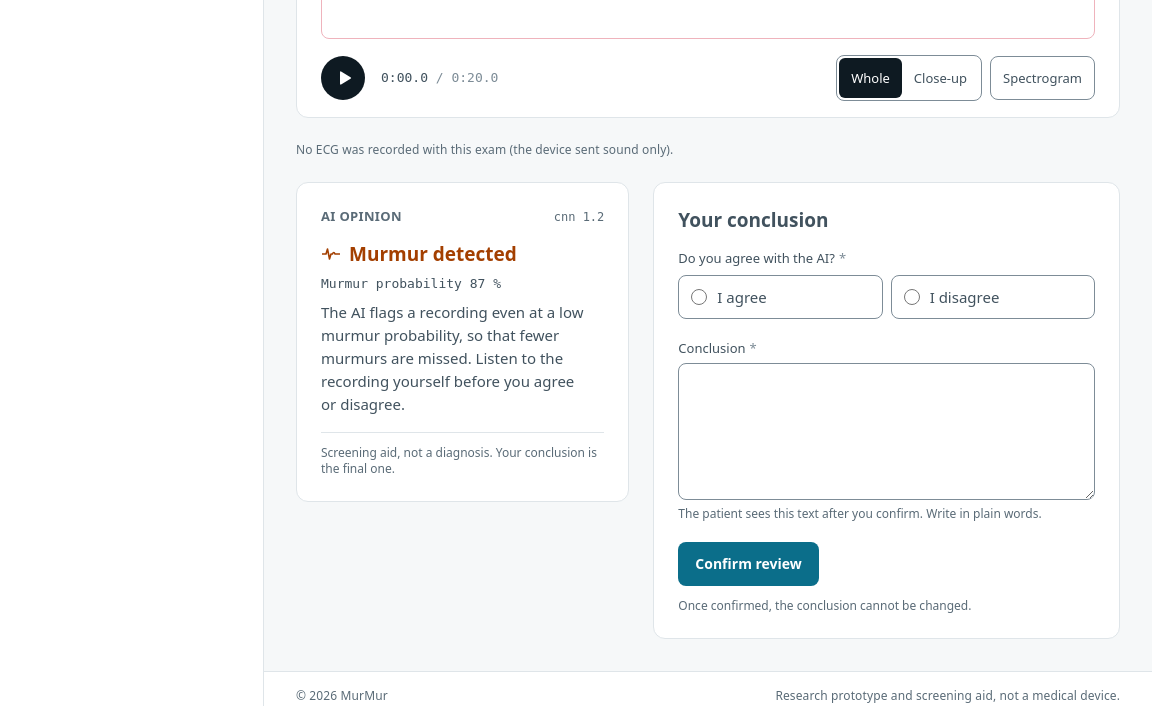
Test: result and review › leaving with an unsaved conclusion asks first
(page scrolled)
Type "Half written" into the text box labelled "Conclusion". click: (887, 432)
box: [678,363,1095,500]
(page scrolled)
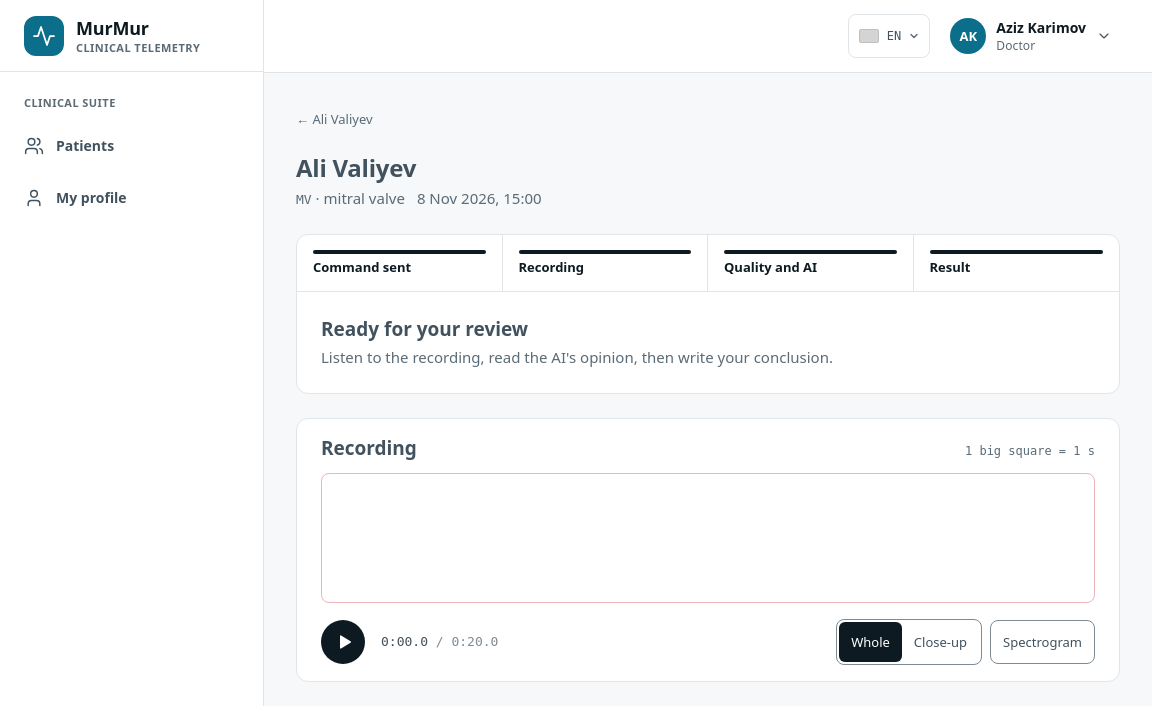
Click the link "← Ali Valiyev". click: click(334, 119)
box: [296,110,373,128]
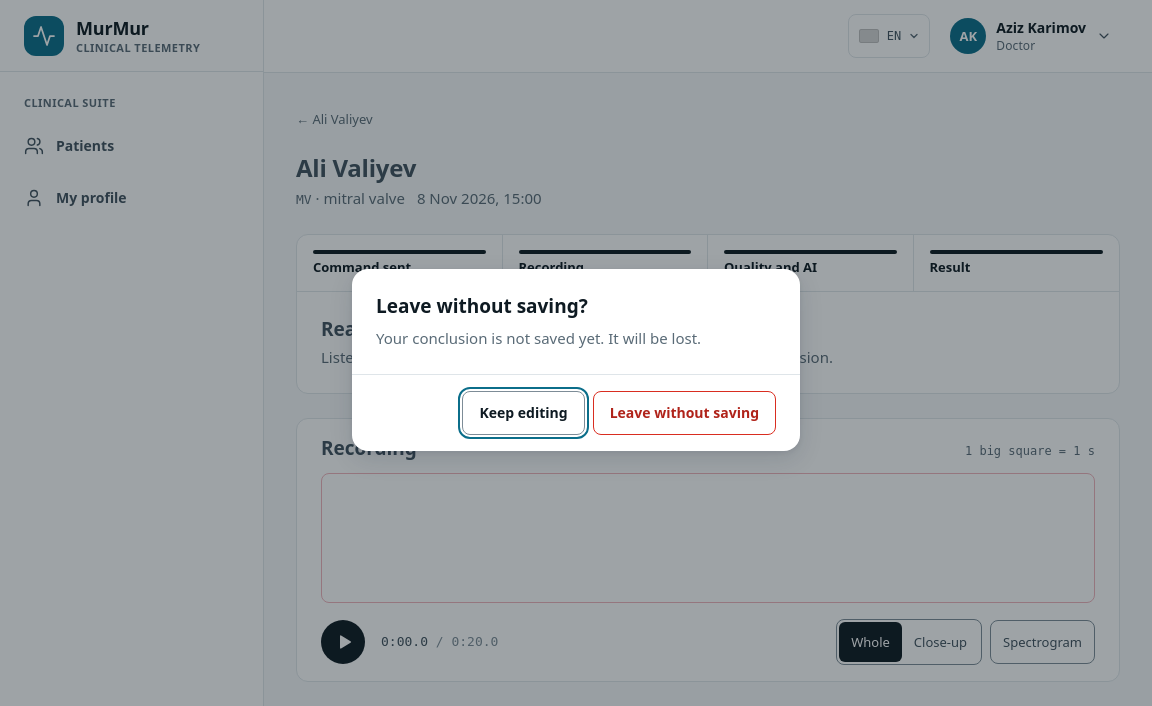
Check: the dialog "Leave without saving?" is shown, box [352,269,800,451]
